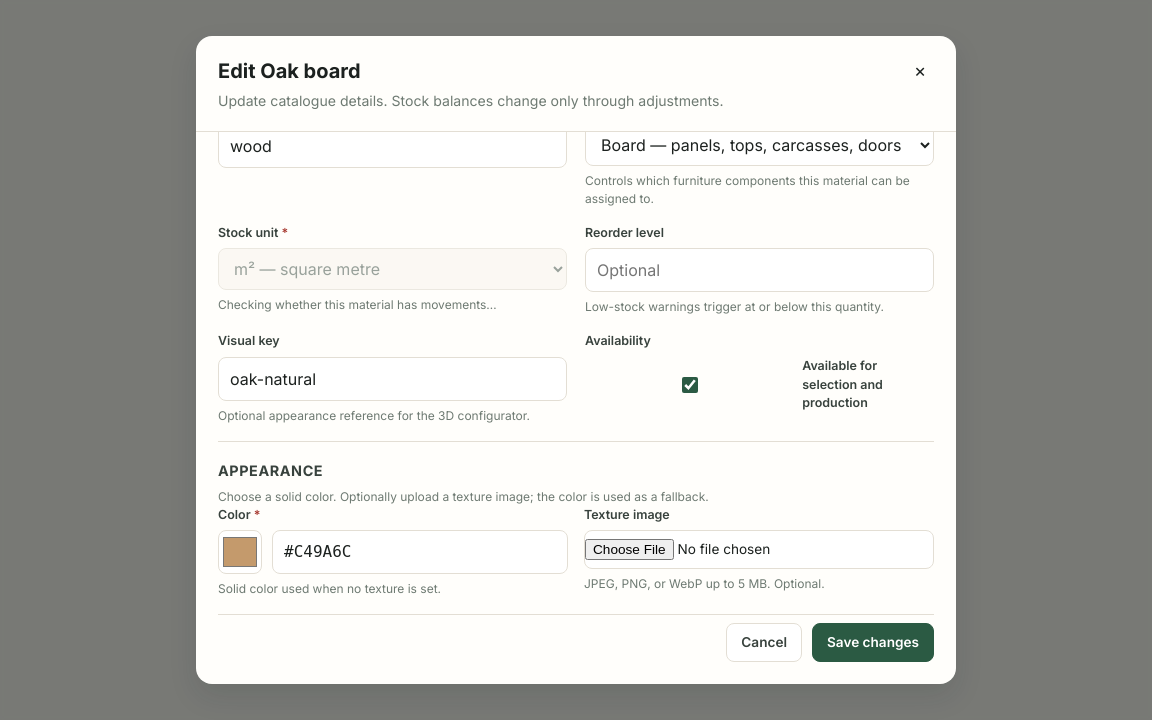
Test: MaterialFormModal appearance controls › updates the hex input when the color picker changes
(page scrolled)
Type "#123456" into the colour field labelled "Color *". click: (240, 552)
box: [218, 530, 262, 574]
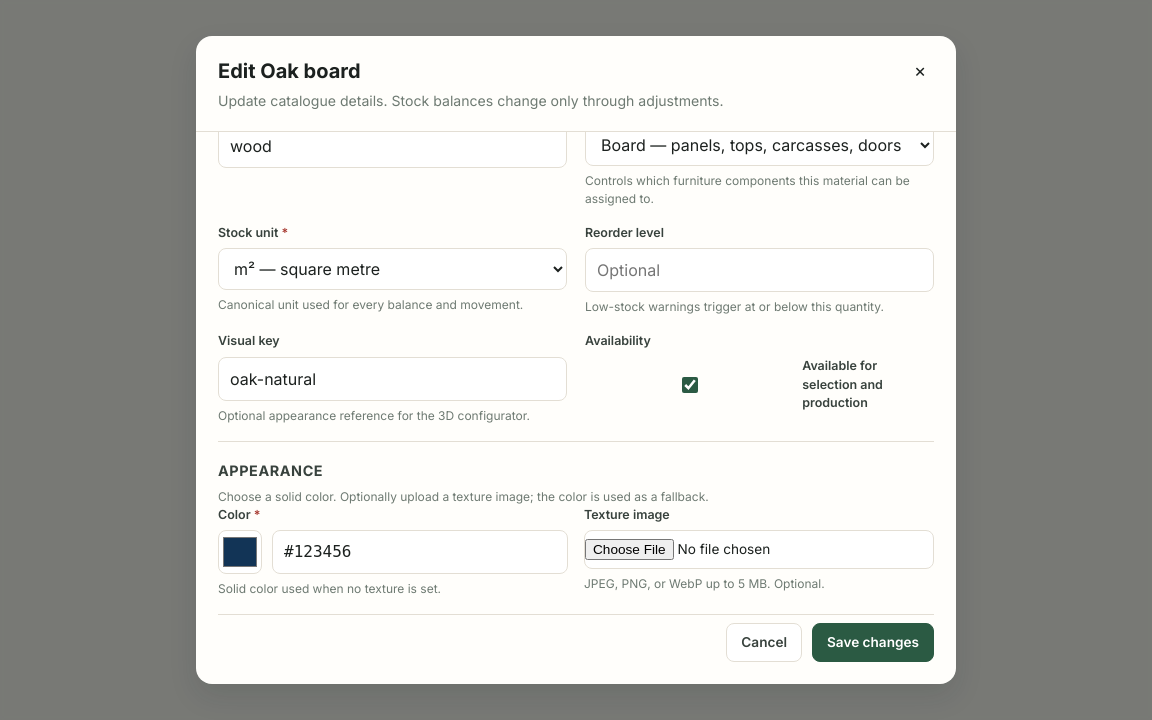
Check: the field named "Hex color" holds "#123456", box [272, 530, 568, 574]
